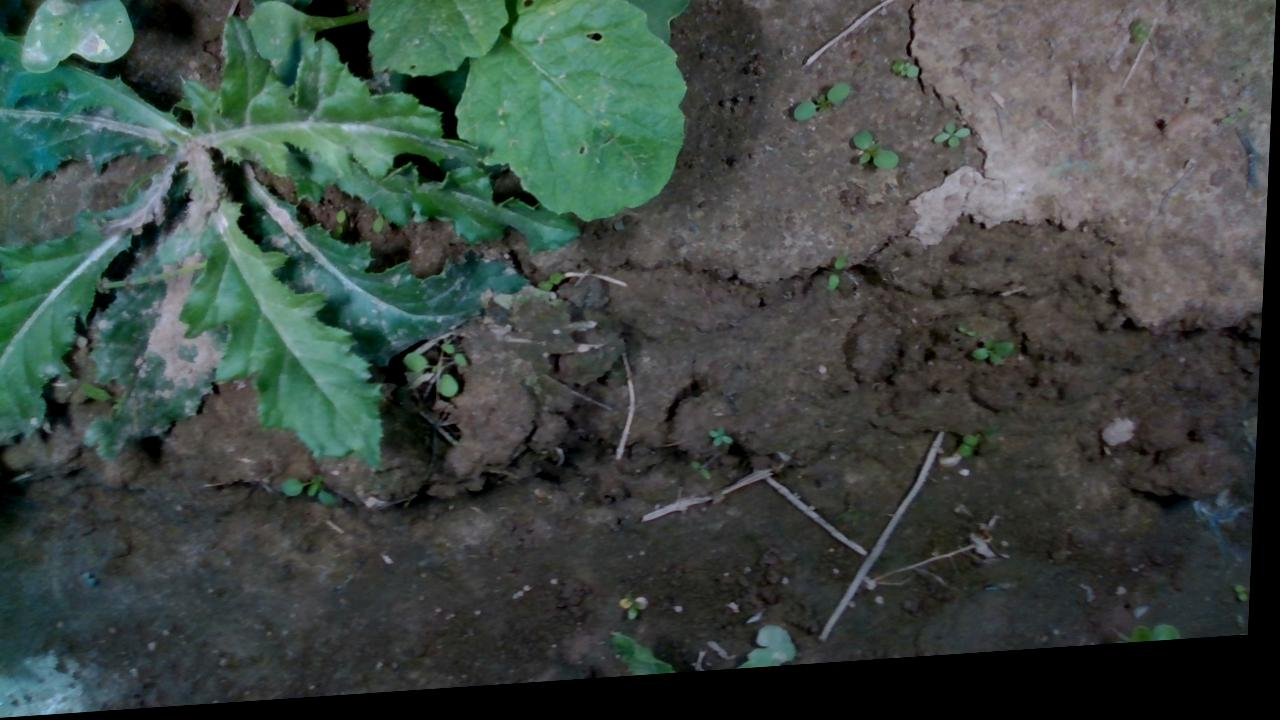weed: (791, 92, 851, 134), (852, 138, 902, 185), (931, 131, 973, 162), (621, 596, 654, 630), (827, 261, 851, 306), (889, 69, 921, 92), (959, 445, 982, 474), (1238, 598, 1253, 624), (958, 338, 980, 352)
